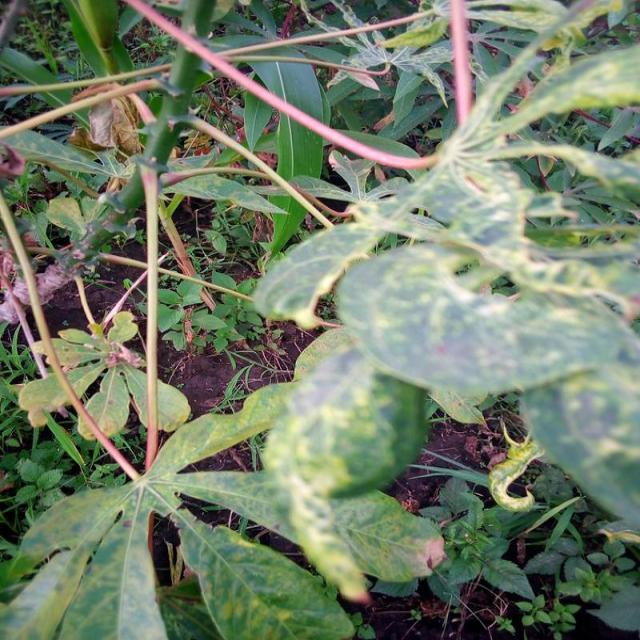cassava leaf: (0, 1, 638, 638), (334, 241, 638, 531)
